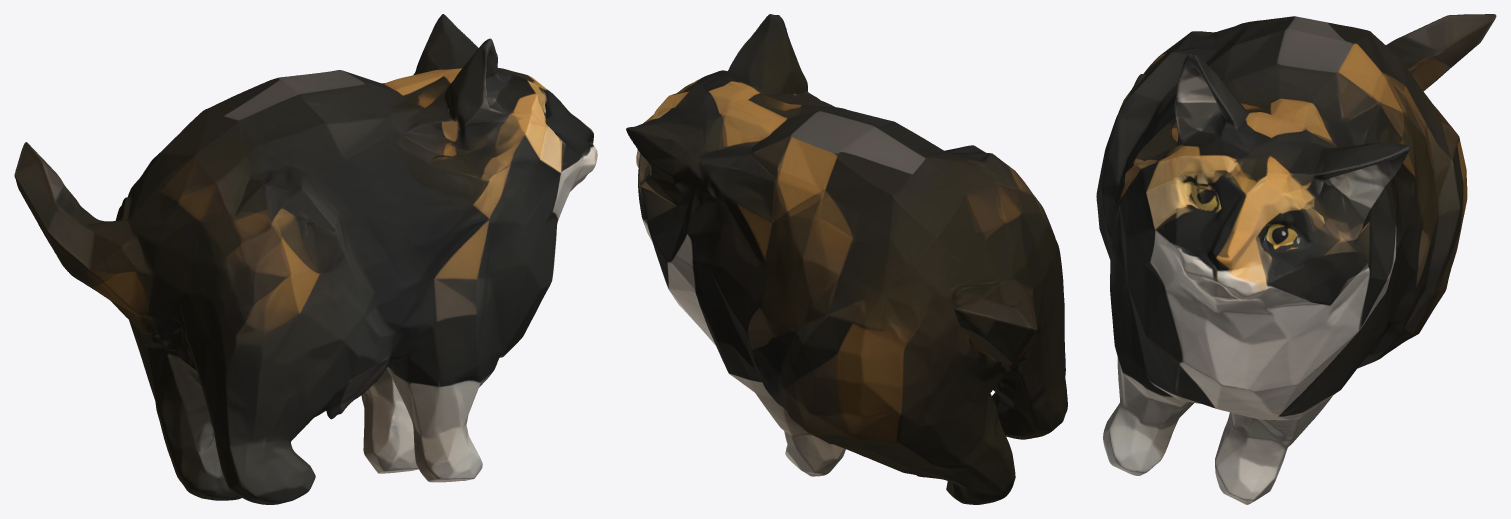
Rendered from cat.glb.
The picture shows the model from 3 angles, left to right: view 1: azimuth 30°, elevation 25°; view 2: azimuth 150°, elevation 25°; view 3: azimuth 270°, elevation 25°; orthographic projection. The views are drawn at different scales.
Parts seen in each view (by area): view 1: tripo_node_0e07ef69-2207-4c87-9ab3-63554b0c32eb; view 2: tripo_node_0e07ef69-2207-4c87-9ab3-63554b0c32eb; view 3: tripo_node_0e07ef69-2207-4c87-9ab3-63554b0c32eb.
Part boxes in pixels (left/top/right/bottom): tripo_node_0e07ef69-2207-4c87-9ab3-63554b0c32eb: left=14, top=14, right=597, bottom=504; tripo_node_0e07ef69-2207-4c87-9ab3-63554b0c32eb: left=626, top=14, right=1067, bottom=504; tripo_node_0e07ef69-2207-4c87-9ab3-63554b0c32eb: left=1096, top=14, right=1496, bottom=504.
Bounding box in the file's own units: 1 × 0.8886 × 0.6693.
Materials: 1 (1 with a texture image).
